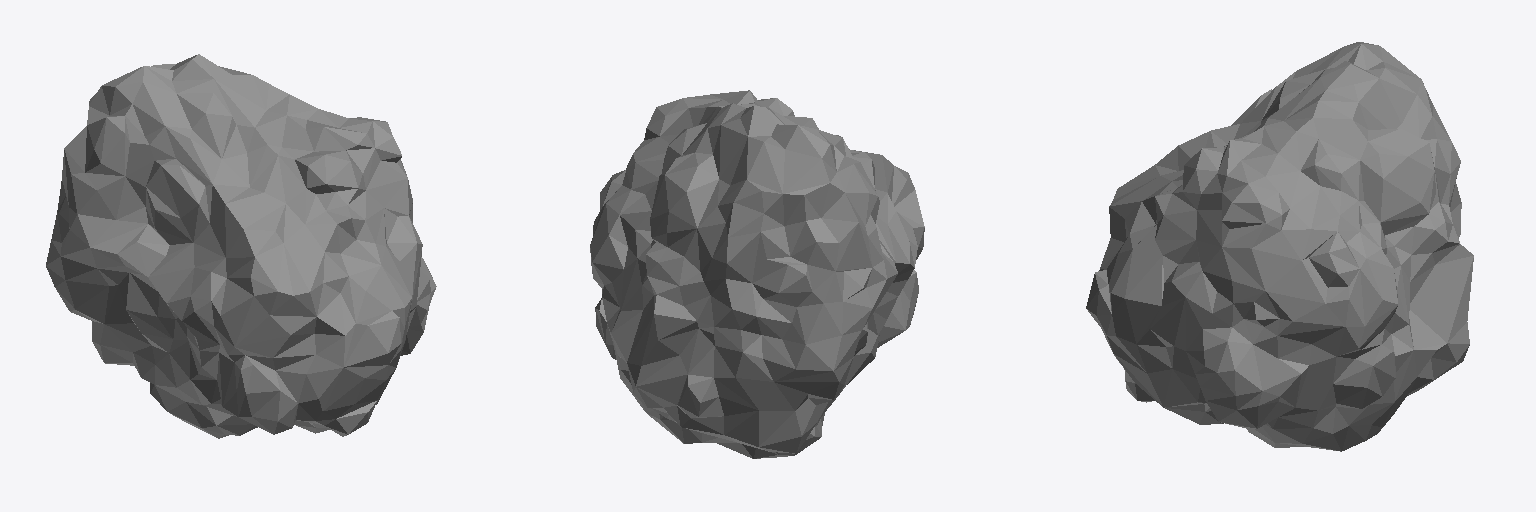
Rendered from Asteroid_5.obj.
3 renders of one model, left to right at view 1: azimuth 30°, elevation 25°; view 2: azimuth 150°, elevation 25°; view 3: azimuth 270°, elevation 25°, orthographic.
Visible parts, largest first — view 1: Asteroid_5; view 2: Asteroid_5; view 3: Asteroid_5.
Part boxes in pixels (bbox=[...]): Asteroid_5: bbox=[46, 54, 436, 438]; Asteroid_5: bbox=[590, 90, 924, 458]; Asteroid_5: bbox=[1086, 42, 1473, 451].
Bounding box in the file's own units: 78.69 × 89.32 × 86.6.